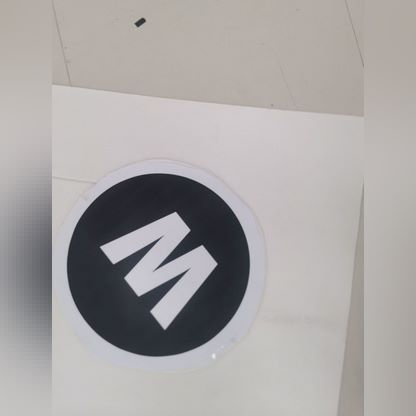W: (99, 197, 223, 332)
